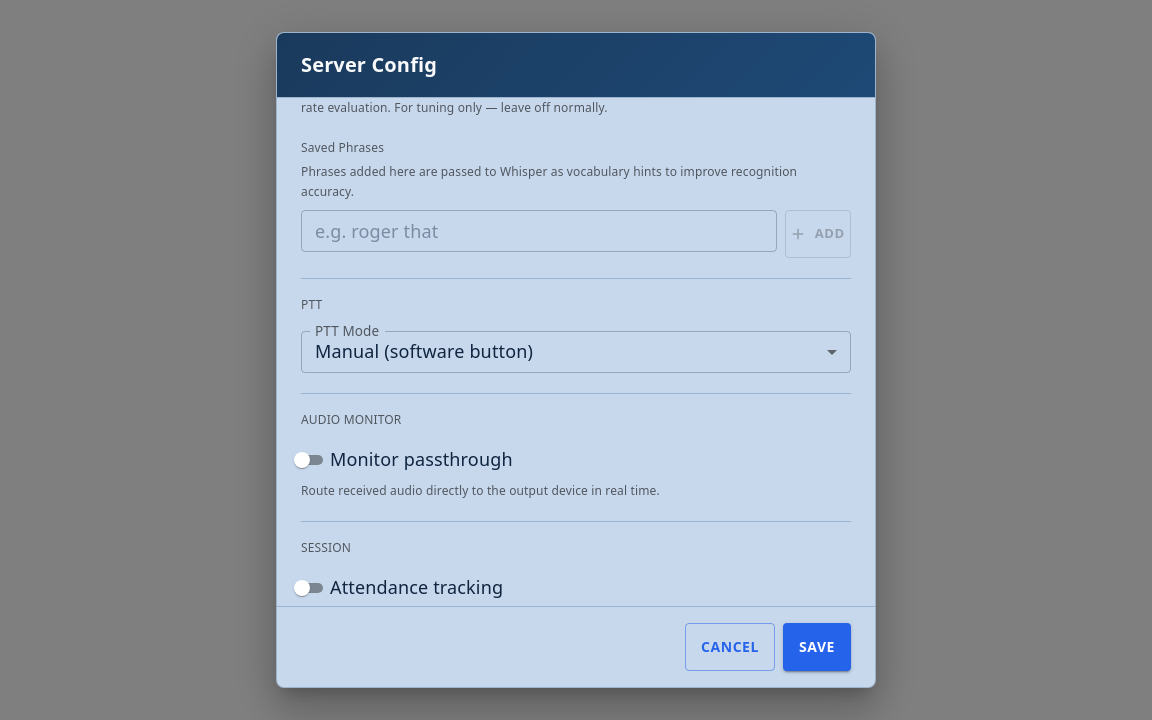
Scenario: ServerConfigPanel › shows serial fields after switching PTT mode from manual to serial
(page scrolled)
Click the dropdown named "ptt mode": (424, 351) [315,339,533,363]
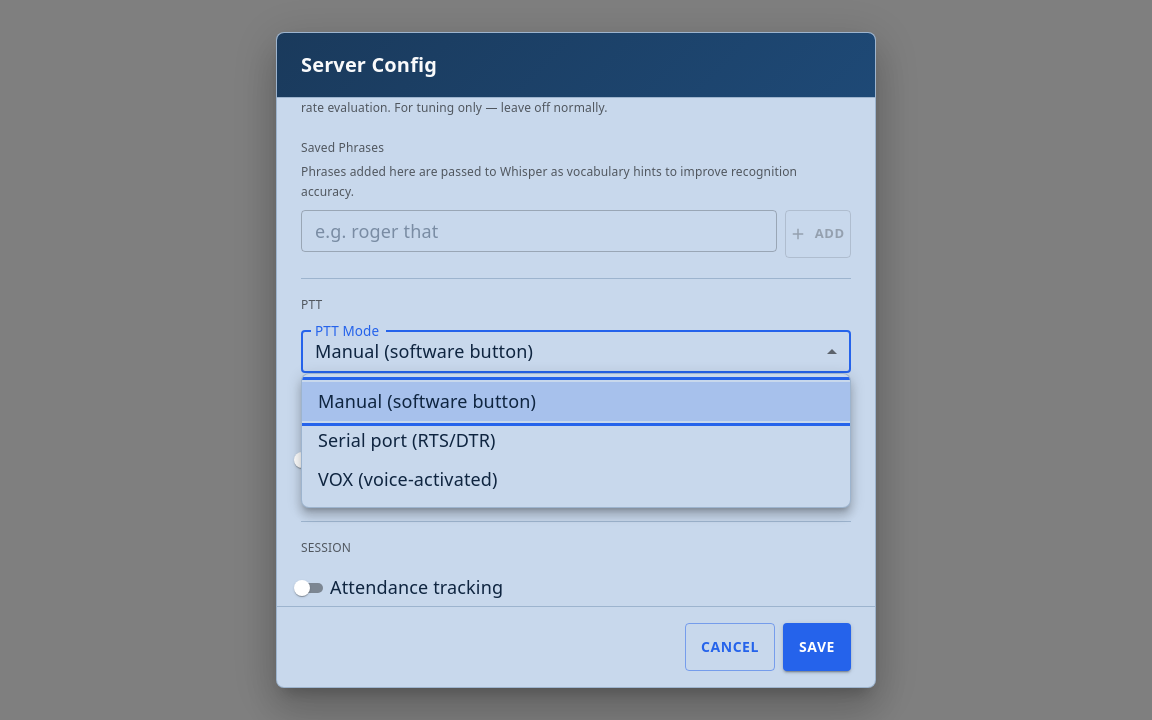
Click the option "Serial port (RTS/DTR)": (407, 440) [318,428,496,452]
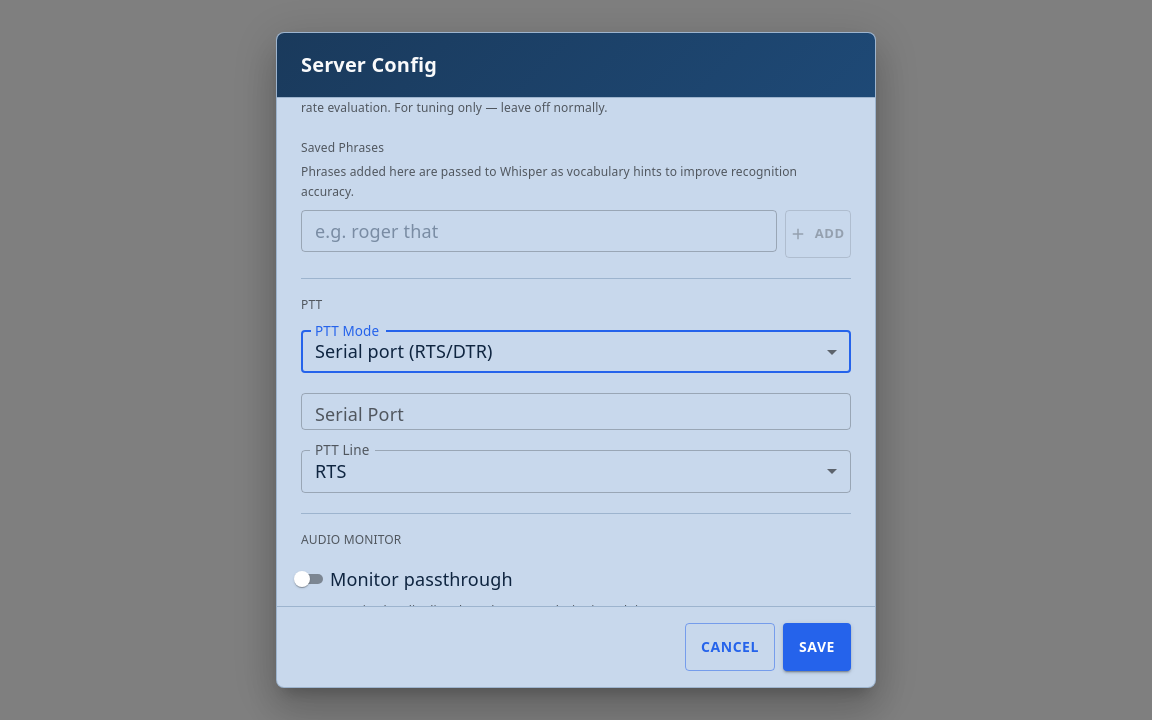
Now the field labelled "Serial Port" is shown, box [301,394,851,430]
